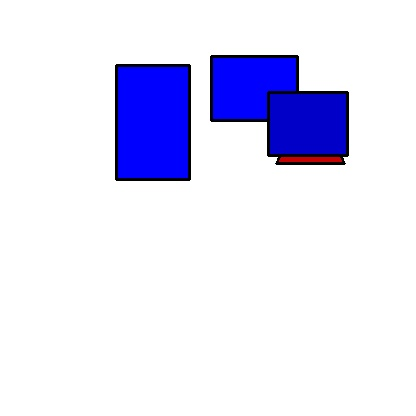rectangle: (116, 65, 189, 179), (211, 56, 297, 120), (268, 92, 347, 155)
triangle: (276, 92, 344, 163)
